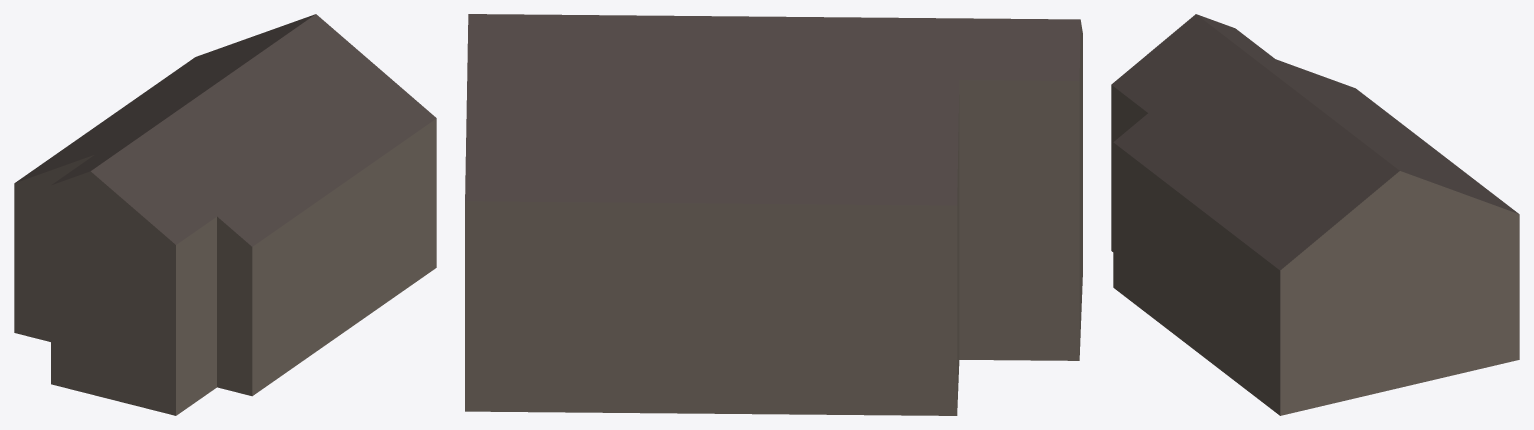
3 views of the same model, side by side, from view 1: azimuth 30°, elevation 25°; view 2: azimuth 150°, elevation 25°; view 3: azimuth 270°, elevation 25° (orthographic). The views are drawn at different scales.
Parts seen in each view (by area): view 1: HP-w783664774; view 2: HP-w783664774; view 3: HP-w783664774.
Boxes of the visible parts, x1,y1,x2,y2 form: HP-w783664774: (14,14,436,415); HP-w783664774: (465,14,1082,415); HP-w783664774: (1111,14,1519,415).
Bounding box in the file's own units: 17.19 × 8.96 × 15.28.
